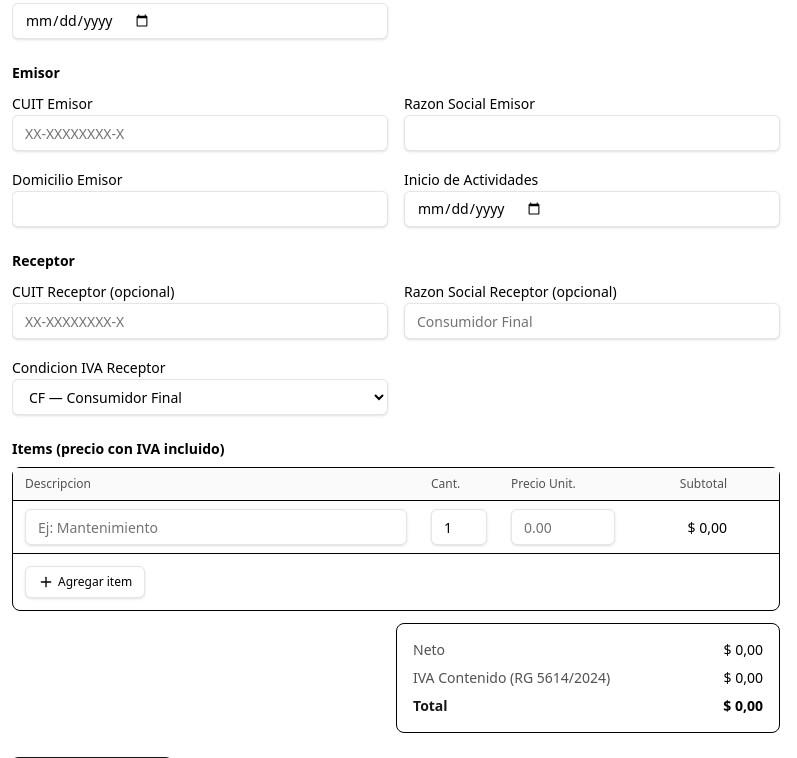
Test: FacturaBForm › [@display] IVA Contenido label is visible in totals
(page scrolled)
Type "Limpieza general" into the field named "Descripcion item 1". click: (216, 527)
box: [25, 509, 407, 545]
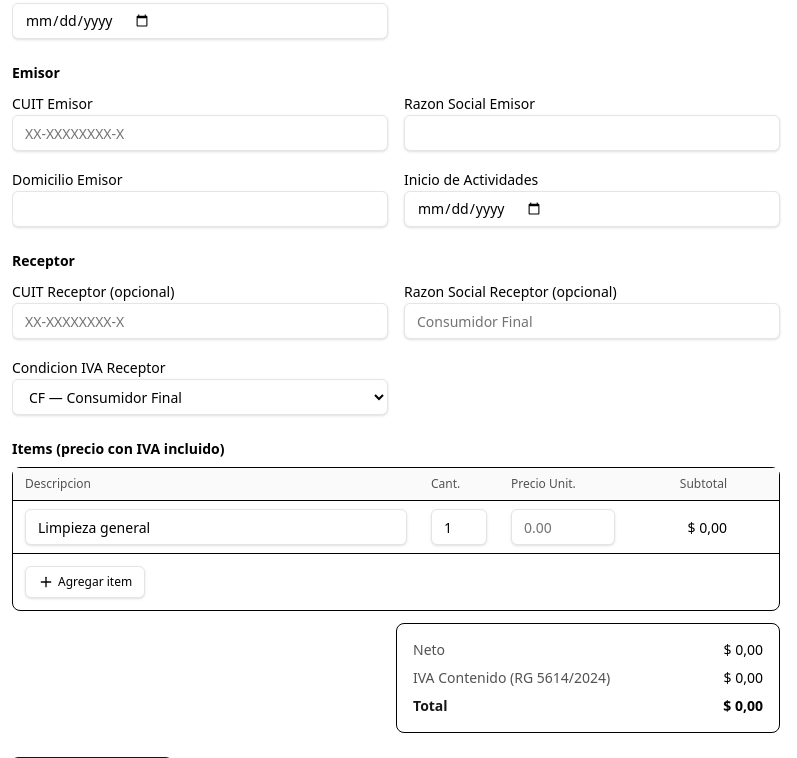
Type "12100" into the number field named "Precio unitario item 1". click: (563, 527)
box: [511, 509, 615, 545]
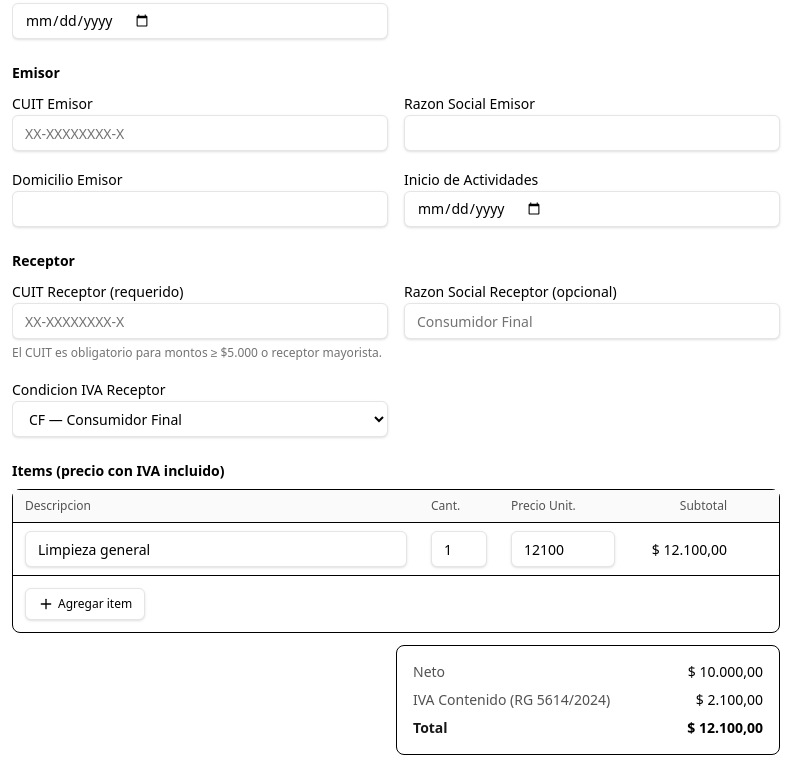
Expected: the text "IVA Contenido (RG 5614/2024)" is shown, [413, 690, 610, 710]
Expected: the text "$ 10.000,00" is shown, [688, 662, 763, 682]
Expected: the text "$ 2.100,00" is shown, [696, 690, 763, 710]
